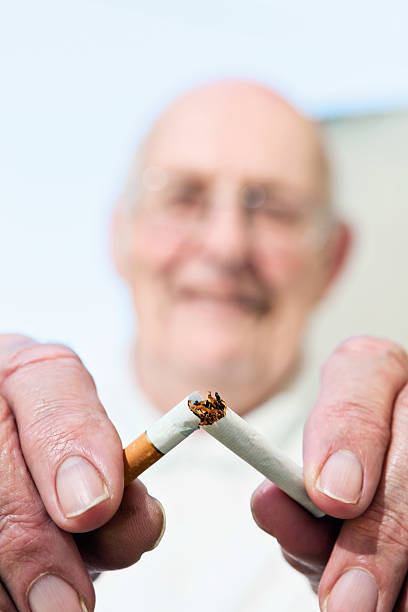cigarette: (197, 395, 330, 520), (114, 392, 207, 489)
